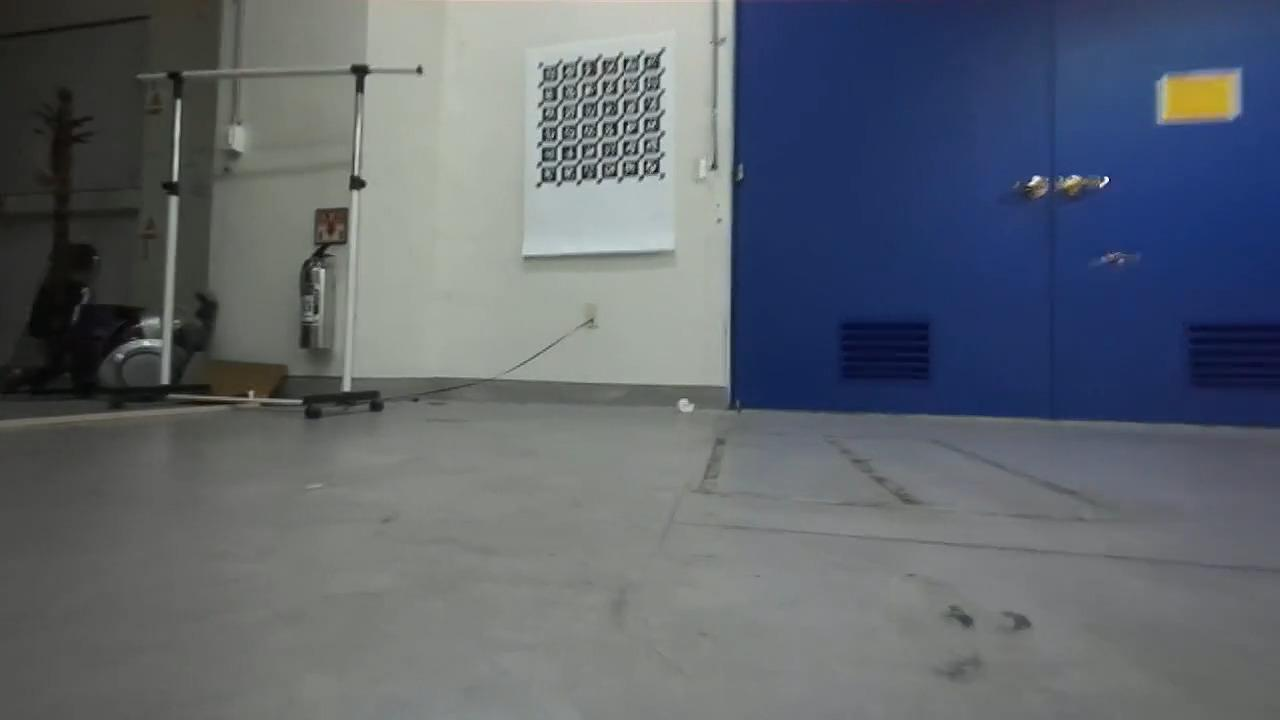crazyflie: (1084, 248, 1140, 272)
